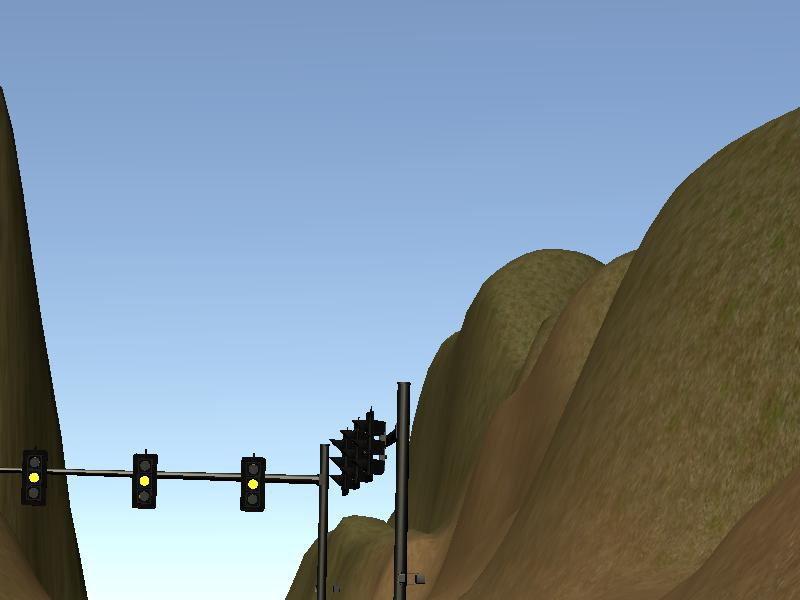yellow_light: (23, 451, 47, 504), (243, 459, 264, 513), (134, 455, 154, 509)
